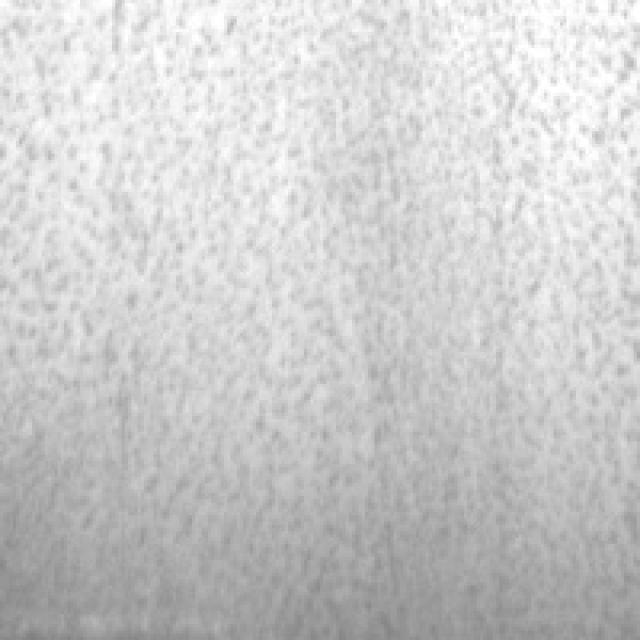pitted_surface: (6, 0, 628, 621)
